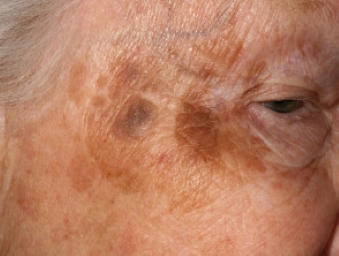seborrheic keratosis: (76, 40, 238, 207)
